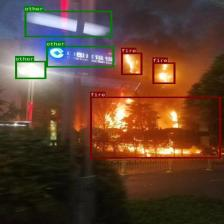fire: (90, 96, 220, 158), (152, 62, 175, 84), (121, 52, 142, 75)
